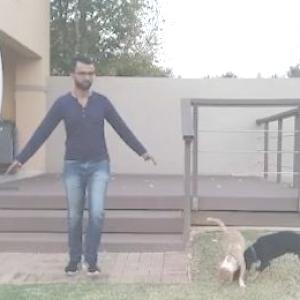land: (1, 65, 156, 282)
